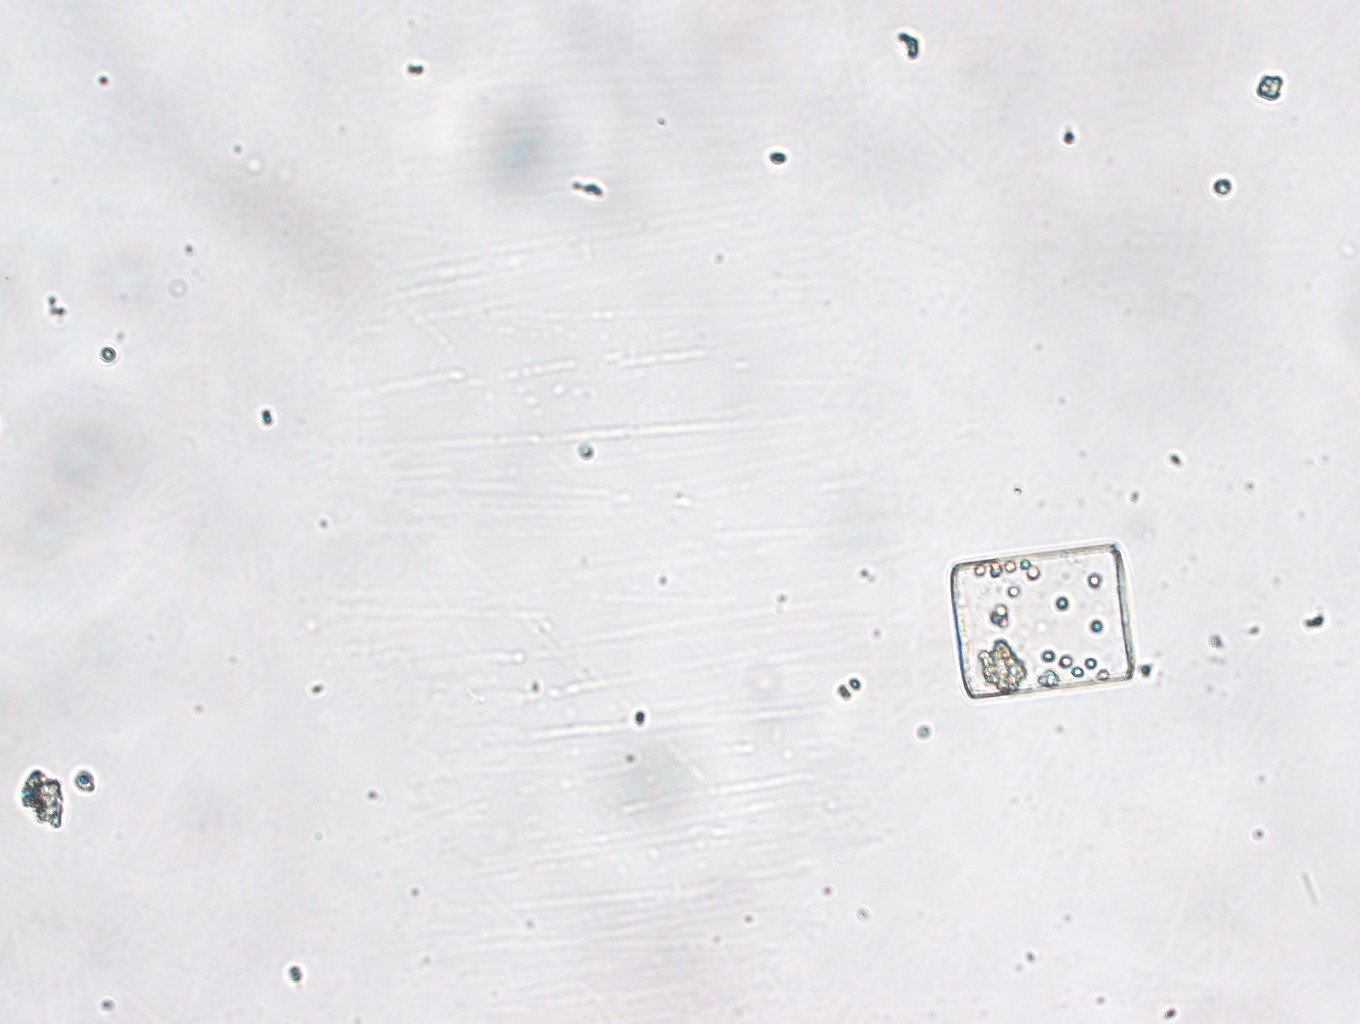guinardia flaccida: (950, 542, 1134, 699)
